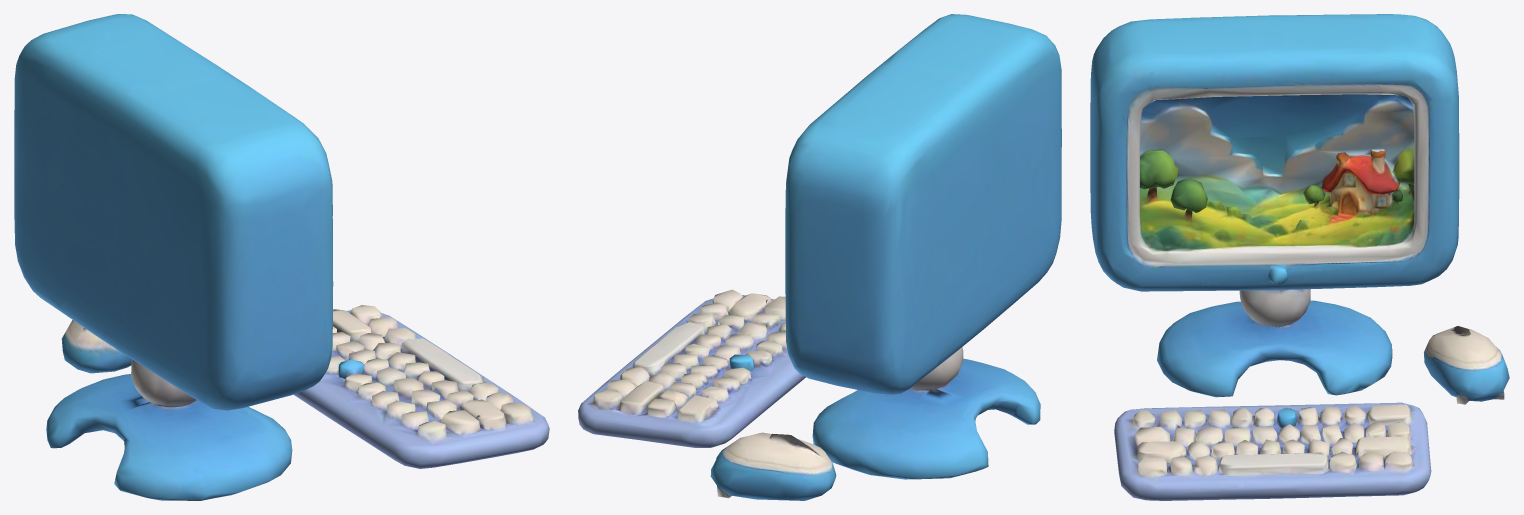
Rendered from computer.glb.
3 renders of one model, left to right at view 1: azimuth 30°, elevation 25°; view 2: azimuth 150°, elevation 25°; view 3: azimuth 270°, elevation 25°, orthographic. The views are drawn at different scales.
Parts seen in each view (by area): view 1: tripo_node_3ac2aef5-9907-4f5a-bb9d-f31ee295bfb1; view 2: tripo_node_3ac2aef5-9907-4f5a-bb9d-f31ee295bfb1; view 3: tripo_node_3ac2aef5-9907-4f5a-bb9d-f31ee295bfb1.
Part boxes in pixels (x1,y1,x2,y2): tripo_node_3ac2aef5-9907-4f5a-bb9d-f31ee295bfb1: (14, 14, 549, 500); tripo_node_3ac2aef5-9907-4f5a-bb9d-f31ee295bfb1: (578, 14, 1061, 500); tripo_node_3ac2aef5-9907-4f5a-bb9d-f31ee295bfb1: (1090, 14, 1509, 500).
Size of the model in its own units: 0.4914 by 0.45 by 0.5031.
Materials: 1 (1 with a texture image).
